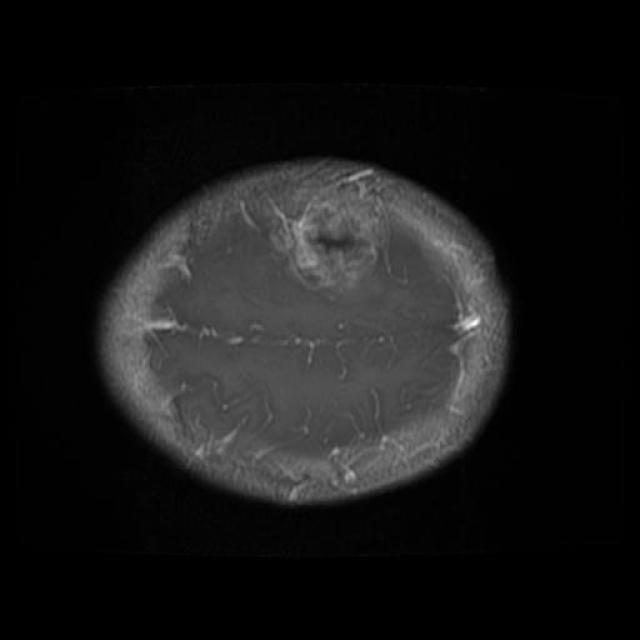Glioma: (273, 180, 390, 293)
